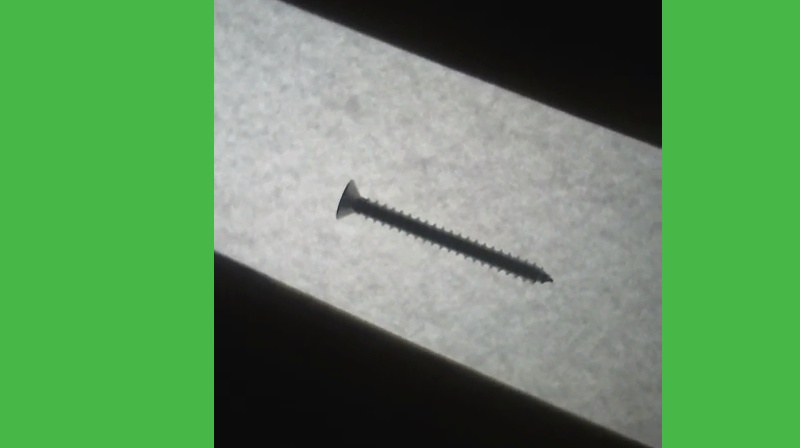S002: (333, 174, 556, 285)
